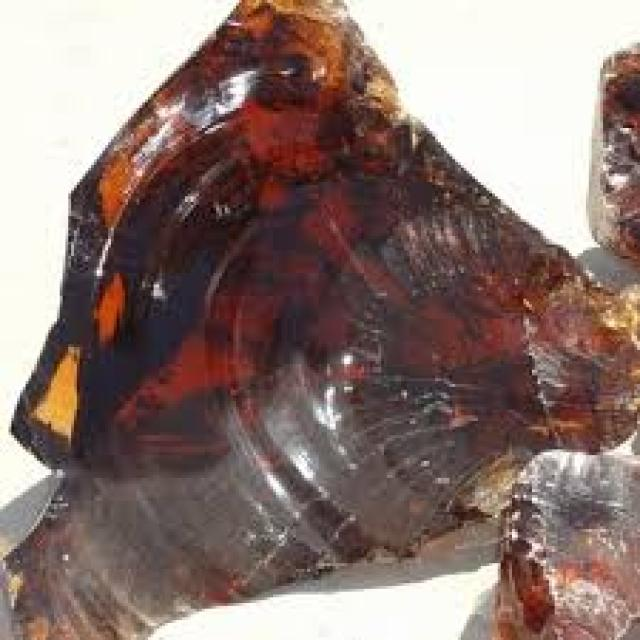glass: (6, 0, 637, 637), (594, 46, 637, 267)
